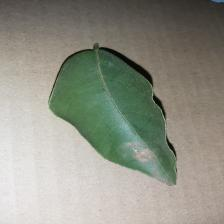healthy: (44, 44, 202, 182)
